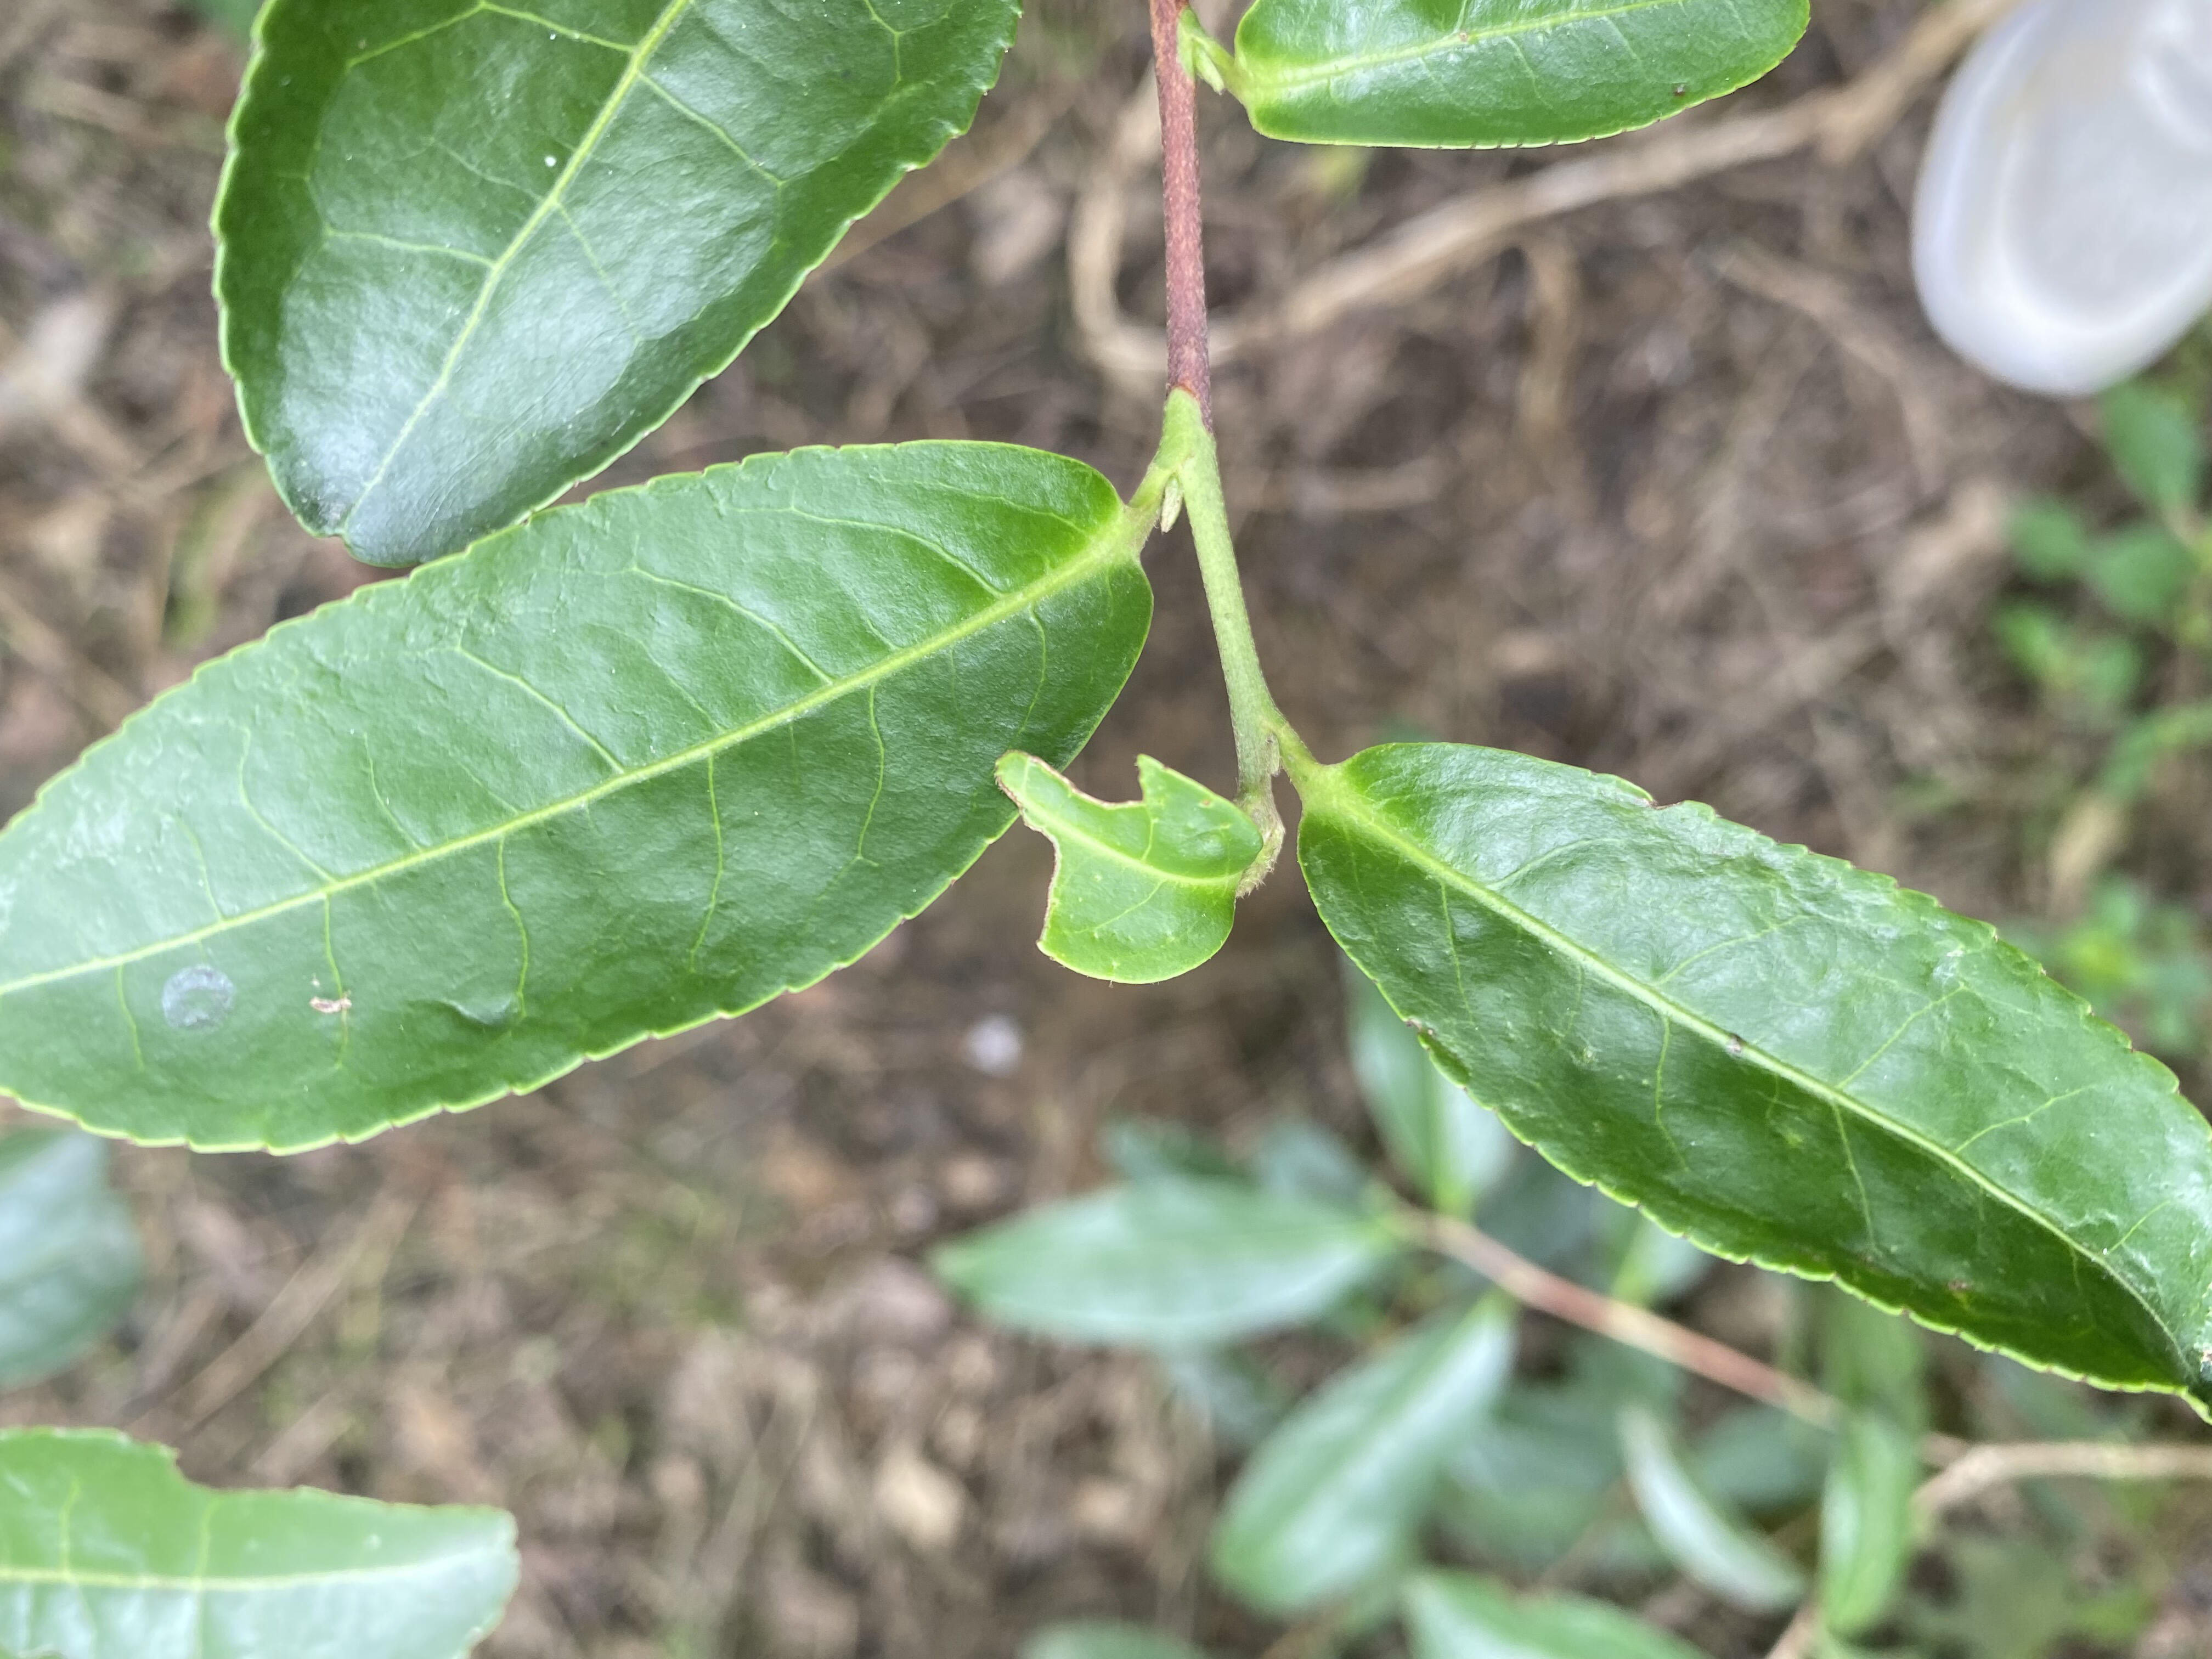chihuo_high: (993, 748, 1263, 990)
healthy: (1296, 741, 2212, 1415), (223, 2, 1029, 568)
tanju_low: (7, 439, 1158, 1154), (1231, 2, 1813, 150)
